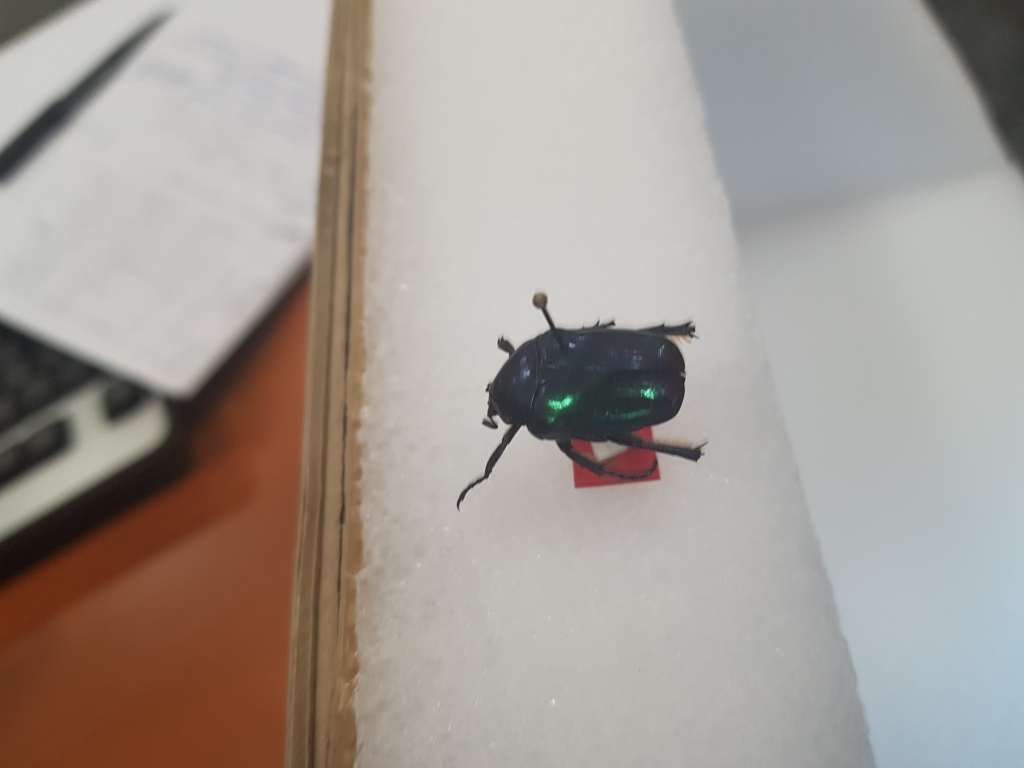Protaetia_besucheti: (454, 317, 722, 521)
